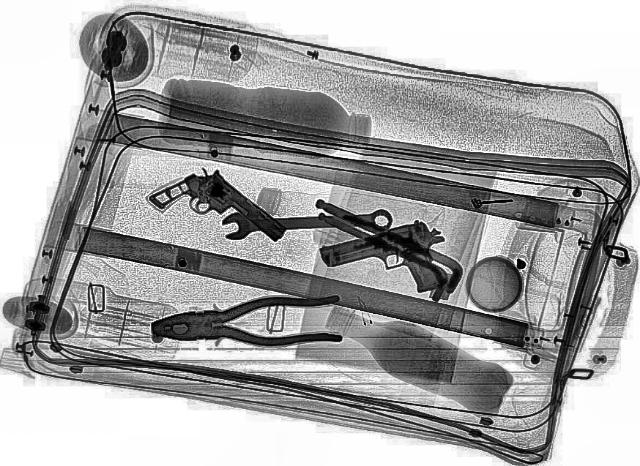Gun: (143, 162, 295, 268), (315, 216, 465, 309)
Pliers: (146, 294, 344, 352)
Wrench: (219, 202, 393, 238)
